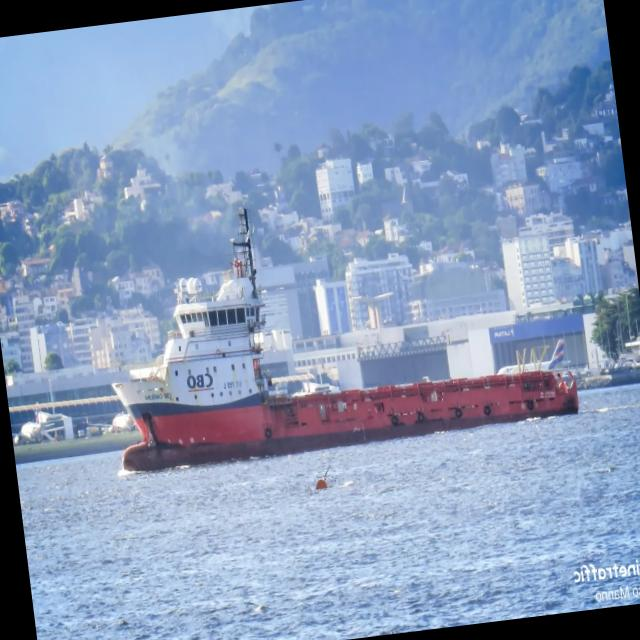Offshore: (113, 208, 578, 471)
